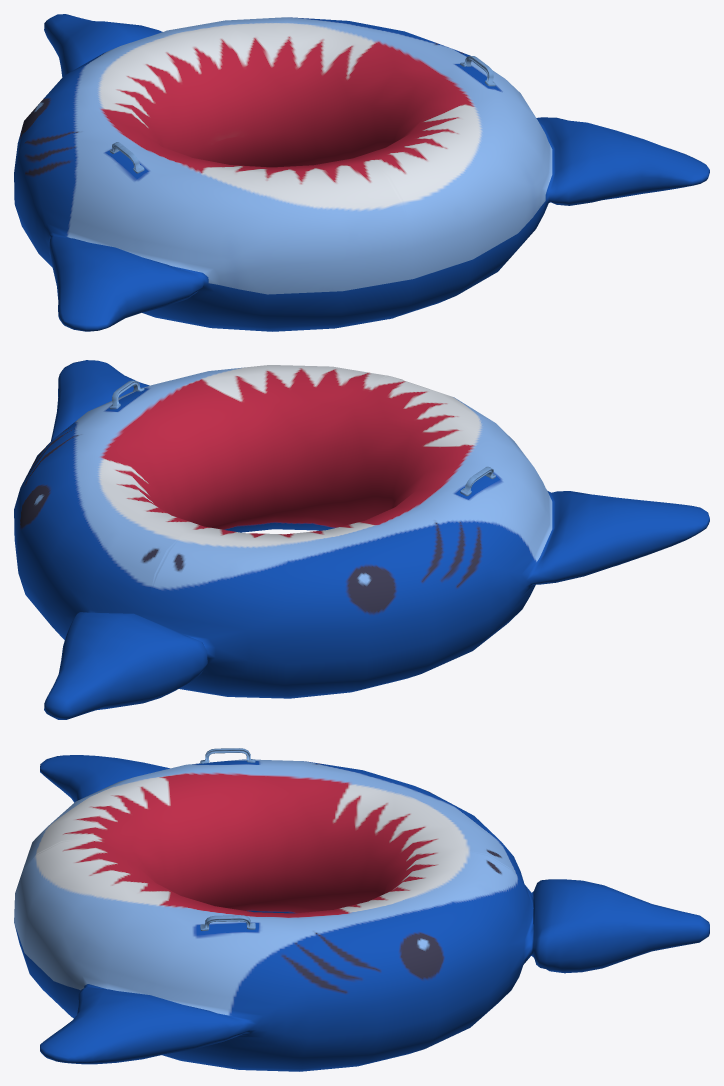
The model's file is Phao7.fbx.
3 views of the same model, one above another, from view 1: azimuth 30°, elevation 25°; view 2: azimuth 150°, elevation 25°; view 3: azimuth 270°, elevation 25° (orthographic). The views are drawn at different scales.
Parts seen in each view (by area): view 1: Inflatable_Shark_low_Material #14_0.001; view 2: Inflatable_Shark_low_Material #14_0.001; view 3: Inflatable_Shark_low_Material #14_0.001.
Boxes of the visible parts, x1=… form: Inflatable_Shark_low_Material #14_0.001: x1=14, y1=14, x2=709, y2=331; Inflatable_Shark_low_Material #14_0.001: x1=14, y1=360, x2=709, y2=719; Inflatable_Shark_low_Material #14_0.001: x1=14, y1=748, x2=709, y2=1071.
Bounding box in the file's own units: 1.98 × 0.4938 × 1.93.
